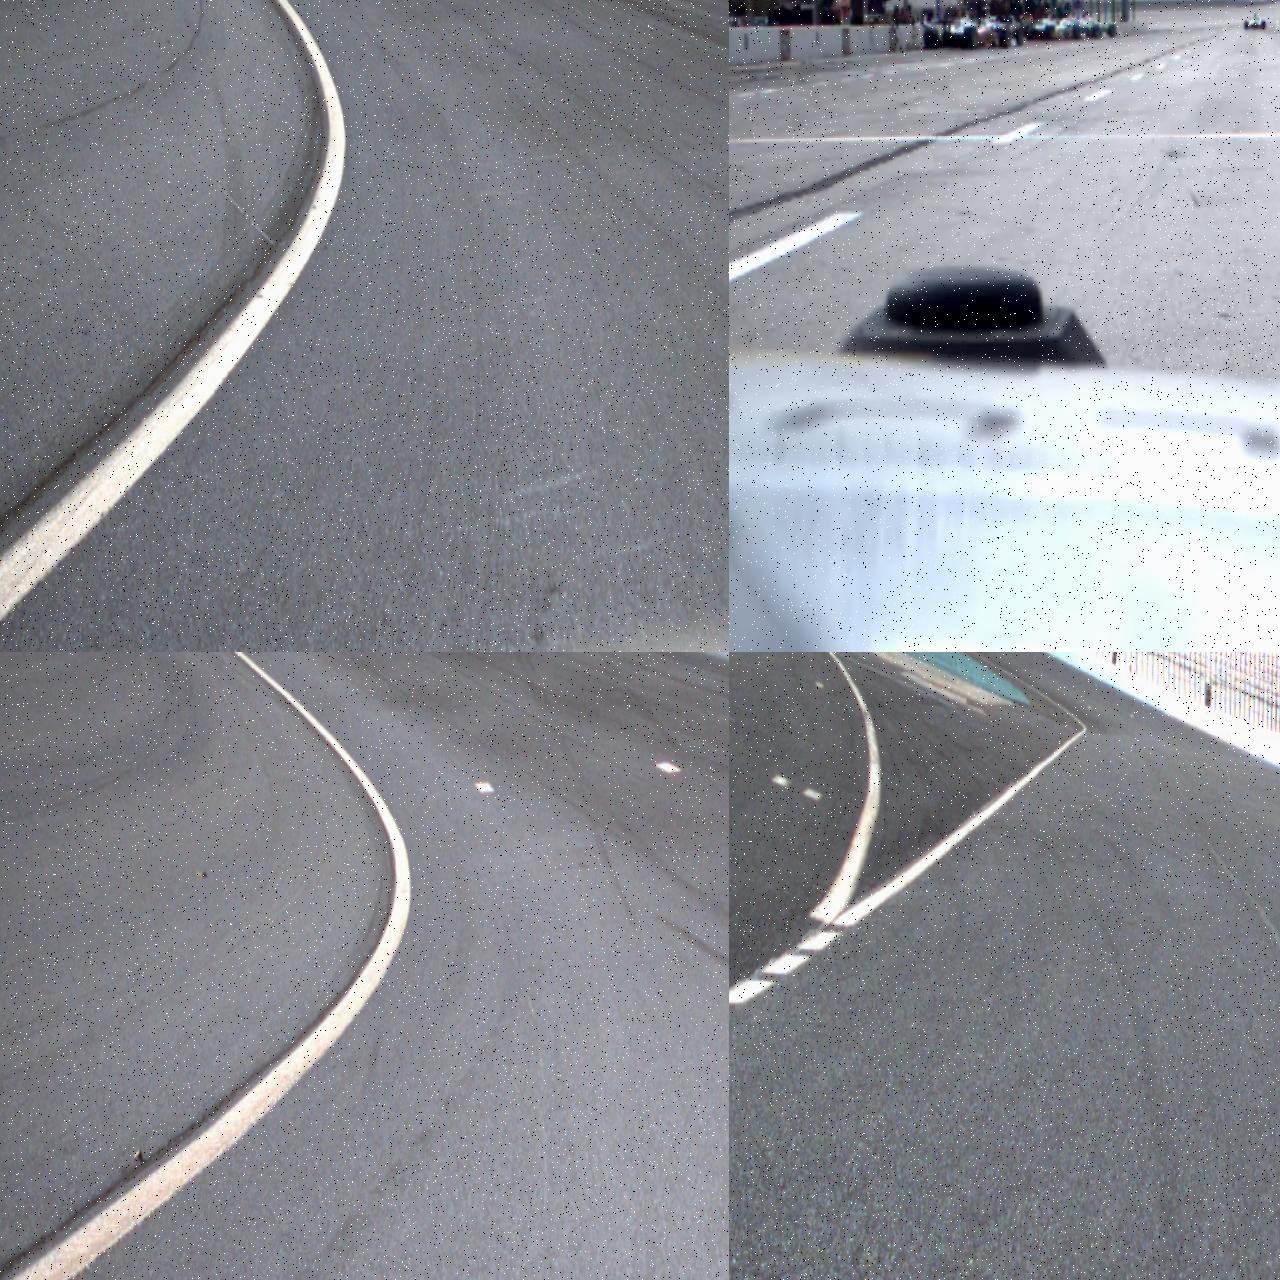AV: (922, 10, 1011, 50), (1244, 12, 1266, 30)
Wheel: (924, 28, 939, 50), (964, 26, 978, 48), (1000, 28, 1010, 48), (1014, 28, 1024, 46), (1045, 24, 1054, 39), (1108, 23, 1117, 37), (1092, 24, 1100, 39), (1073, 24, 1081, 39), (1262, 20, 1266, 30), (1244, 22, 1248, 31)
